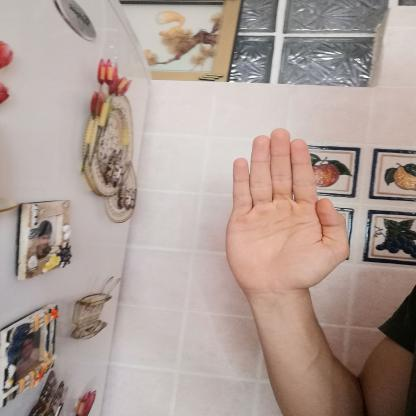SEEN: (210, 118, 361, 301)
